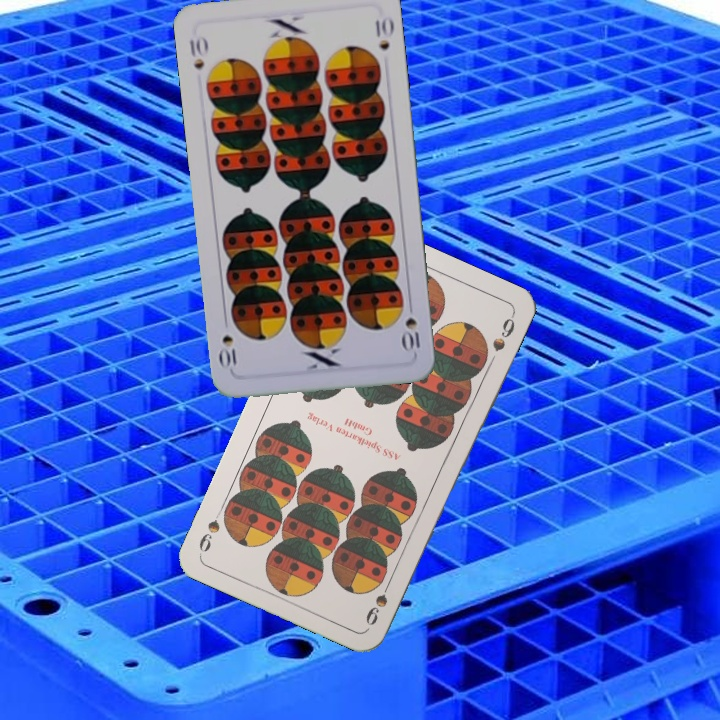S10: (400, 313, 423, 355), (186, 32, 210, 72)
S9: (361, 573, 395, 628)
